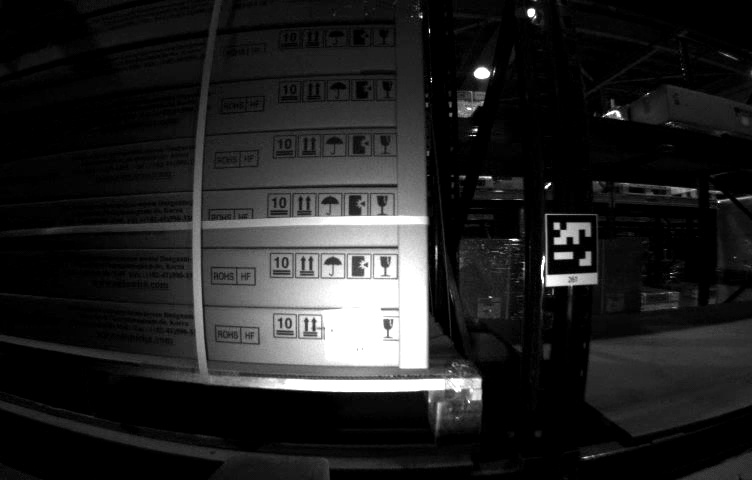True Barcode: (323, 309, 384, 355)
